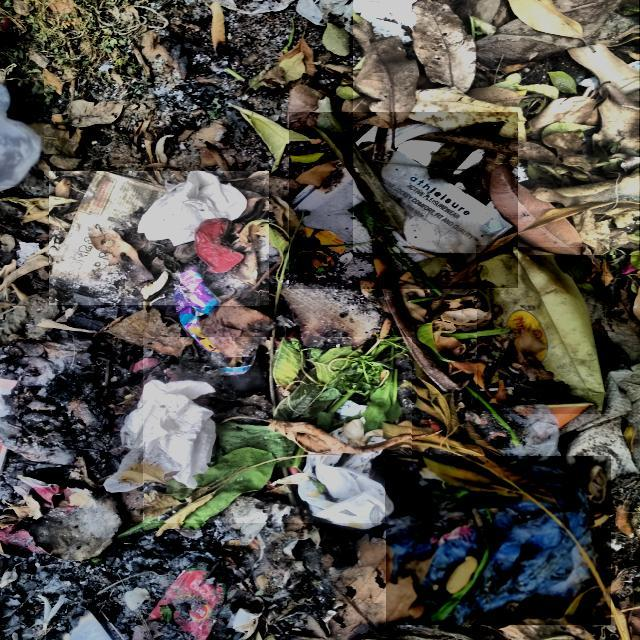anorganik: (386, 456, 610, 625), (181, 269, 259, 378), (0, 80, 44, 186)
organik: (354, 0, 638, 255), (146, 337, 411, 522), (290, 113, 518, 288), (50, 172, 269, 304), (477, 247, 605, 413), (120, 385, 216, 493)
